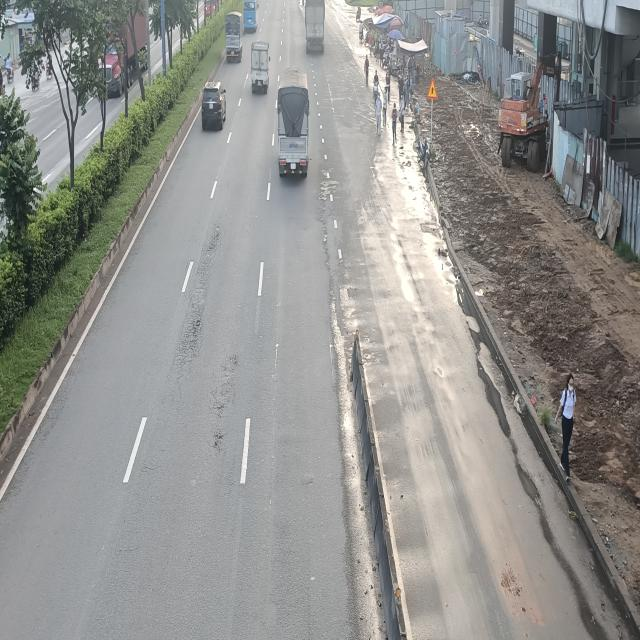car: (200, 81, 227, 130)
coach: (244, 0, 258, 32)
truck: (275, 68, 310, 177), (304, 1, 326, 55), (252, 41, 272, 95), (223, 12, 243, 63)
